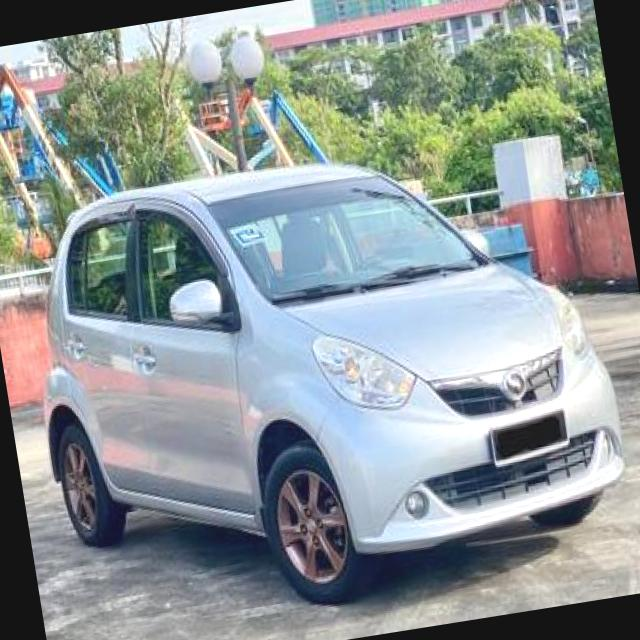PeroduaMyvi: (9, 113, 640, 640)
